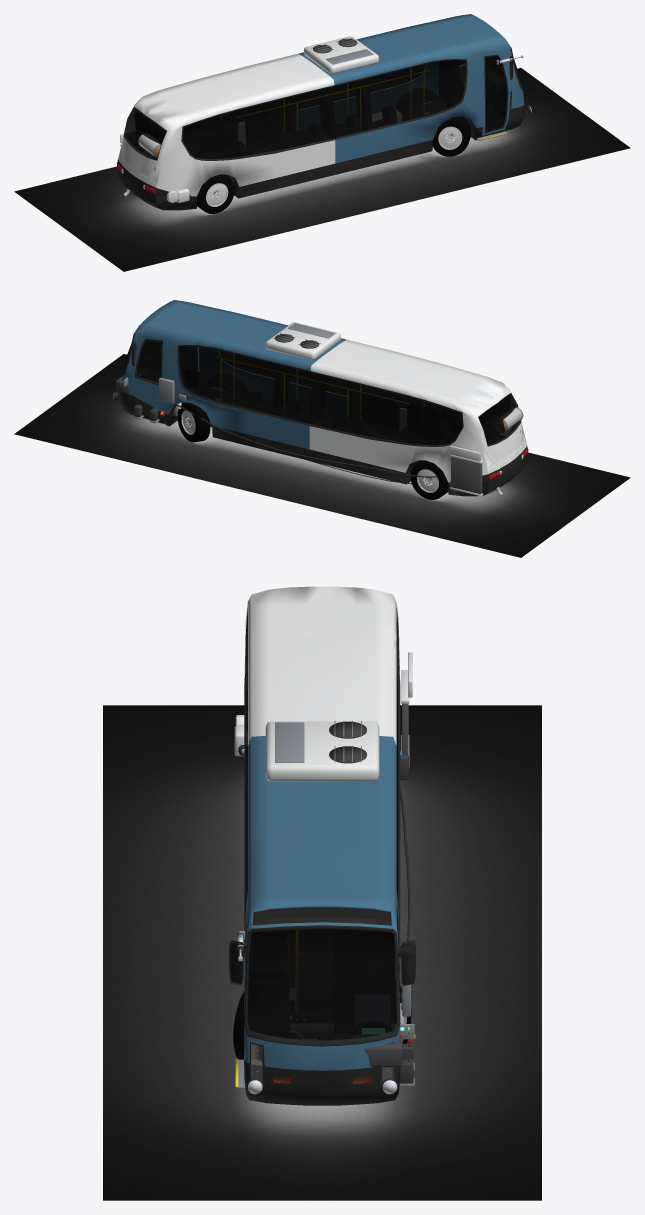
File: autobus_diesel.glb
3 renders of one model, top to bottom at view 1: azimuth 30°, elevation 25°; view 2: azimuth 150°, elevation 25°; view 3: azimuth 270°, elevation 25°, orthographic. The views are drawn at different scales.
Parts seen in each view (by area): view 1: carroceria, sombra_piso, p_unidad_clima__plastico_blanco.001, rueda_6, rueda_7, tapa_motor, p_unidad_clima__pintura_gris.001; view 2: carroceria, sombra_piso, p_unidad_clima__plastico_blanco.001, rueda_4, rueda_5, tapa_motor, p_radiador__panal_radiador, p_arnes_principal__pintura_negra, p_unidad_clima__pintura_gris.001, p_central_electrica__pintura_gris; view 3: sombra_piso, carroceria, p_unidad_clima__plastico_blanco.001, p_unidad_clima__pintura_gris.001, p_unidad_clima__plastico_negro.001, p_tablero__tablero.
Boxes of the visible parts, box(x1,y1,x2,y2) form: carroceria: box(116, 14, 524, 210); sombra_piso: box(14, 68, 630, 271); p_unidad_clima__plastico_blanco.001: box(304, 36, 378, 74); rueda_6: box(432, 116, 471, 156); rueda_7: box(196, 174, 234, 213); tapa_motor: box(117, 155, 155, 204); p_unidad_clima__pintura_gris.001: box(311, 38, 373, 64); carroceria: box(120, 300, 528, 496); sombra_piso: box(14, 354, 630, 557); p_unidad_clima__plastico_blanco.001: box(266, 322, 340, 360); rueda_4: box(410, 460, 448, 499); rueda_5: box(177, 402, 210, 442); tapa_motor: box(489, 441, 527, 490); p_radiador__panal_radiador: box(451, 456, 482, 494); p_arnes_principal__pintura_negra: box(173, 402, 444, 477); p_unidad_clima__pintura_gris.001: box(273, 323, 335, 348); p_central_electrica__pintura_gris: box(158, 377, 174, 403); sombra_piso: box(103, 705, 541, 1200); carroceria: box(229, 586, 415, 1105); p_unidad_clima__plastico_blanco.001: box(265, 721, 379, 781); p_unidad_clima__pintura_gris.001: box(275, 721, 361, 762); p_unidad_clima__plastico_negro.001: box(329, 721, 366, 763); p_tablero__tablero: box(364, 1037, 402, 1067).
Size of the model in its own units: 16 by 3.48 by 6.
Materials: 75 (2 with a texture image).
